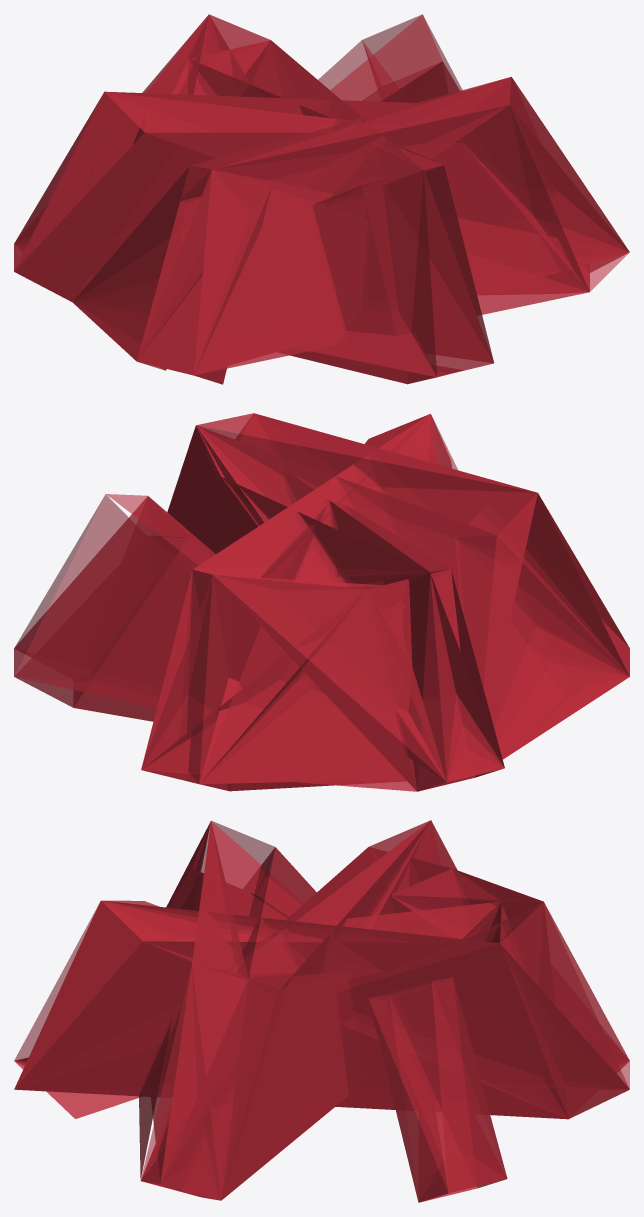
The model's file is S.S._Dolphin_Main_Engine_Part_3.obj.
The picture shows the model from 3 angles, top to bottom: view 1: azimuth 30°, elevation 25°; view 2: azimuth 150°, elevation 25°; view 3: azimuth 270°, elevation 25°; orthographic projection. The views are drawn at different scales.
Parts seen in each view (by area): view 1: S.S._Dolphin_Main_Engine_Part_3; view 2: S.S._Dolphin_Main_Engine_Part_3; view 3: S.S._Dolphin_Main_Engine_Part_3.
Part boxes in pixels (left/top/right/bottom): S.S._Dolphin_Main_Engine_Part_3: left=14, top=14, right=629, bottom=384; S.S._Dolphin_Main_Engine_Part_3: left=14, top=413, right=629, bottom=791; S.S._Dolphin_Main_Engine_Part_3: left=14, top=820, right=629, bottom=1202.
Size of the model in its own units: 2.54 by 1.03 by 2.73.
